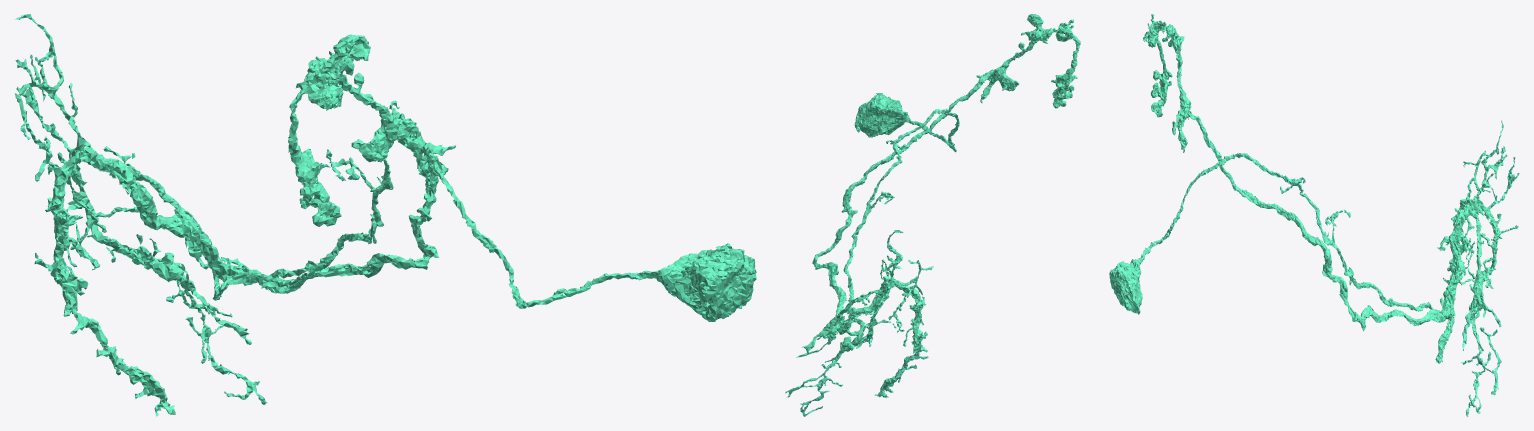
The model's file is VFB_00105rwv.glb.
The picture shows the model from 3 angles, left to right: view 1: azimuth 30°, elevation 25°; view 2: azimuth 150°, elevation 25°; view 3: azimuth 270°, elevation 25°; orthographic projection. The views are drawn at different scales.
Visible parts, largest first — view 1: VFB_00105rwv; view 2: VFB_00105rwv; view 3: VFB_00105rwv.
Boxes of the visible parts, x1,y1,x2,y2 form: VFB_00105rwv: [14, 14, 756, 416]; VFB_00105rwv: [785, 14, 1080, 416]; VFB_00105rwv: [1109, 14, 1519, 416].
Size of the model in its own units: 0.0144 by 0.0186 by 0.0202.
